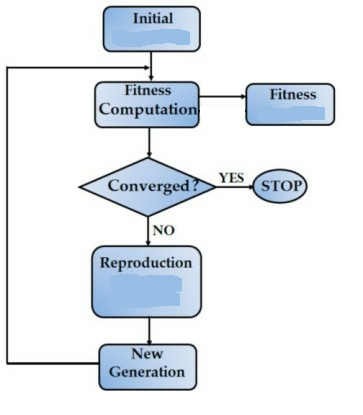arrow: (3, 64, 150, 368), (199, 91, 246, 104), (213, 182, 253, 192), (143, 215, 155, 247), (144, 317, 154, 346), (146, 49, 155, 81), (144, 127, 153, 158)
decision: (77, 157, 217, 218)
process: (88, 243, 205, 320), (92, 79, 202, 131), (100, 2, 203, 55), (95, 342, 199, 393), (243, 81, 338, 129)
terminator: (250, 166, 309, 205)
text: (99, 81, 200, 120), (106, 346, 187, 381), (97, 253, 195, 274), (107, 174, 199, 196), (268, 86, 318, 104), (260, 176, 304, 193), (131, 10, 175, 25), (218, 169, 245, 185), (152, 222, 176, 237)
